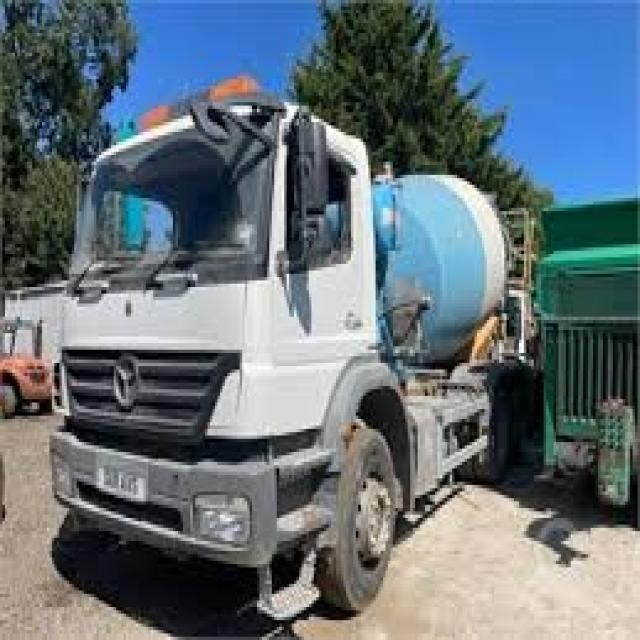Mixer Truck: (44, 66, 537, 622)
